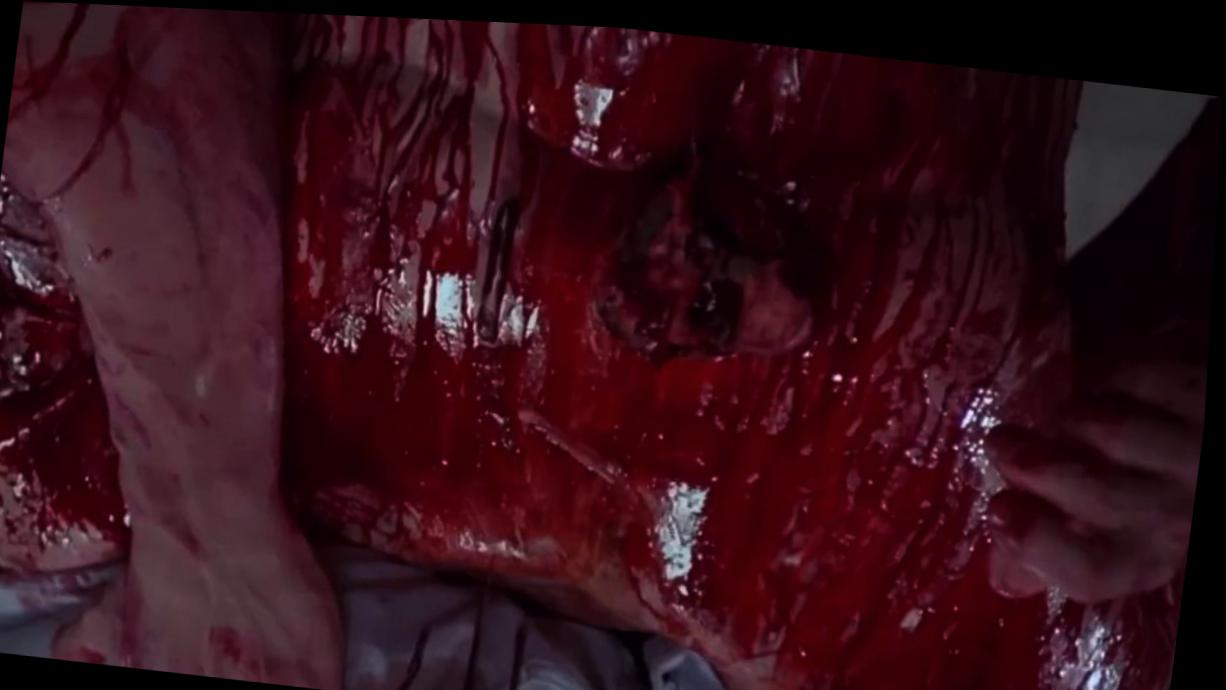Fire: (0, 1, 1224, 690)
